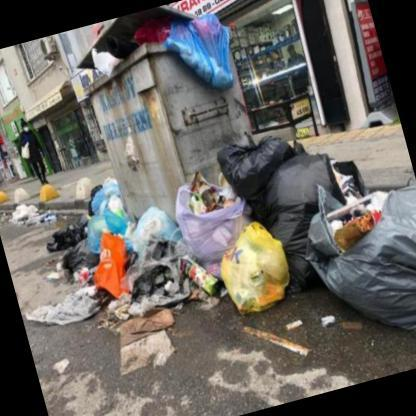Garbage: (310, 159, 415, 382), (250, 135, 386, 301), (106, 193, 213, 316), (221, 216, 308, 335), (166, 167, 258, 266), (164, 2, 244, 104), (206, 116, 296, 196), (95, 275, 186, 351), (30, 278, 116, 353), (75, 178, 137, 274), (180, 247, 230, 318), (127, 9, 176, 60), (131, 201, 177, 250), (85, 38, 125, 86), (4, 200, 54, 238), (56, 259, 106, 294), (48, 218, 86, 262)
